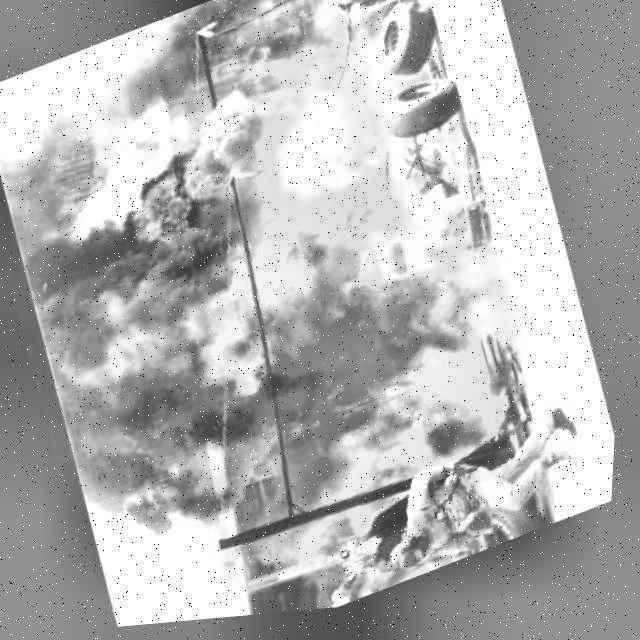Fire: (0, 0, 464, 470), (65, 322, 438, 596), (232, 308, 564, 599), (7, 0, 318, 176)
